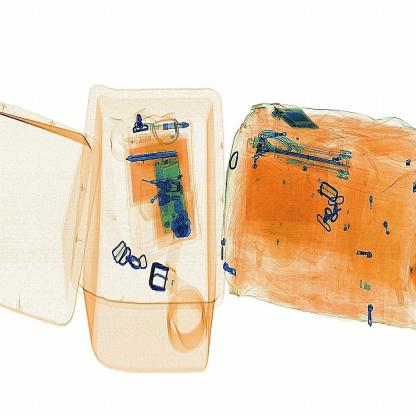pliers: (121, 144, 191, 170)
